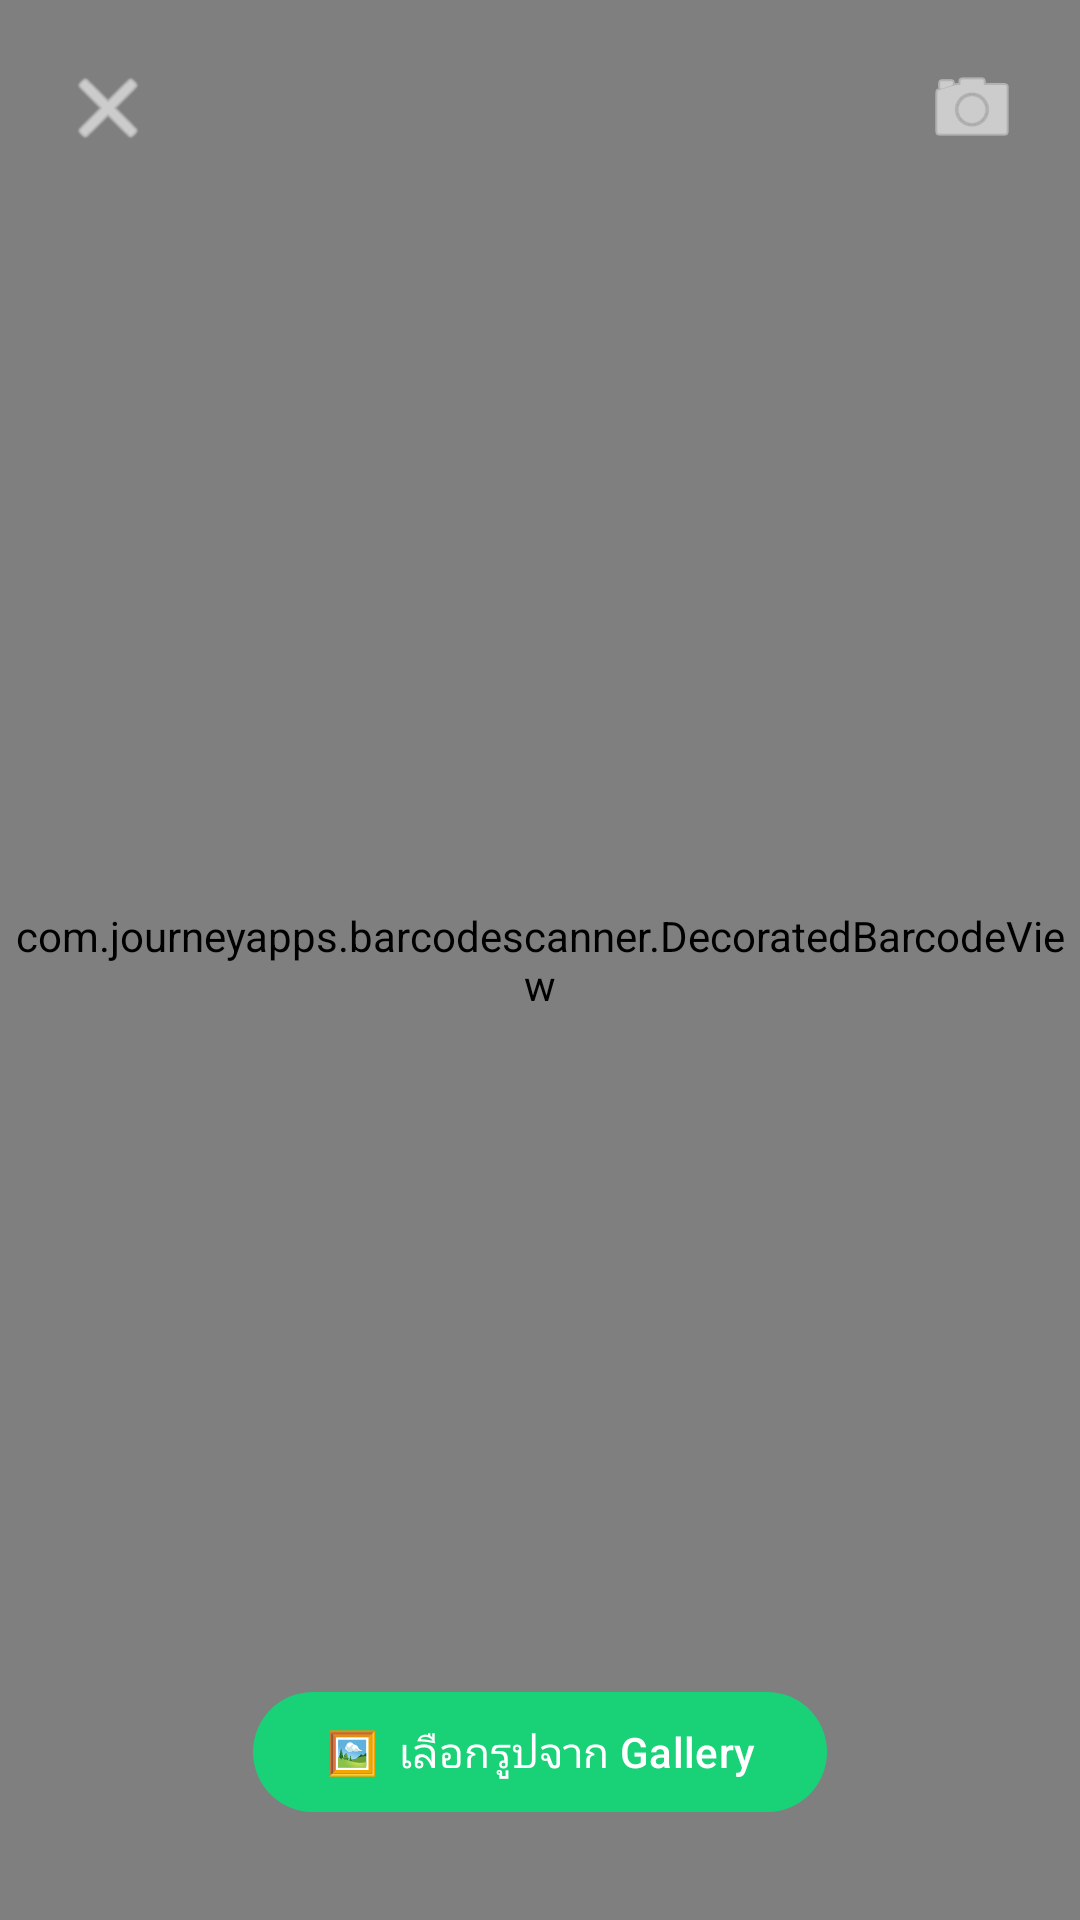

Named icons in this screenshot (1080 x 1920) and their centers, [x,y]:
ปิด: [108,108]
